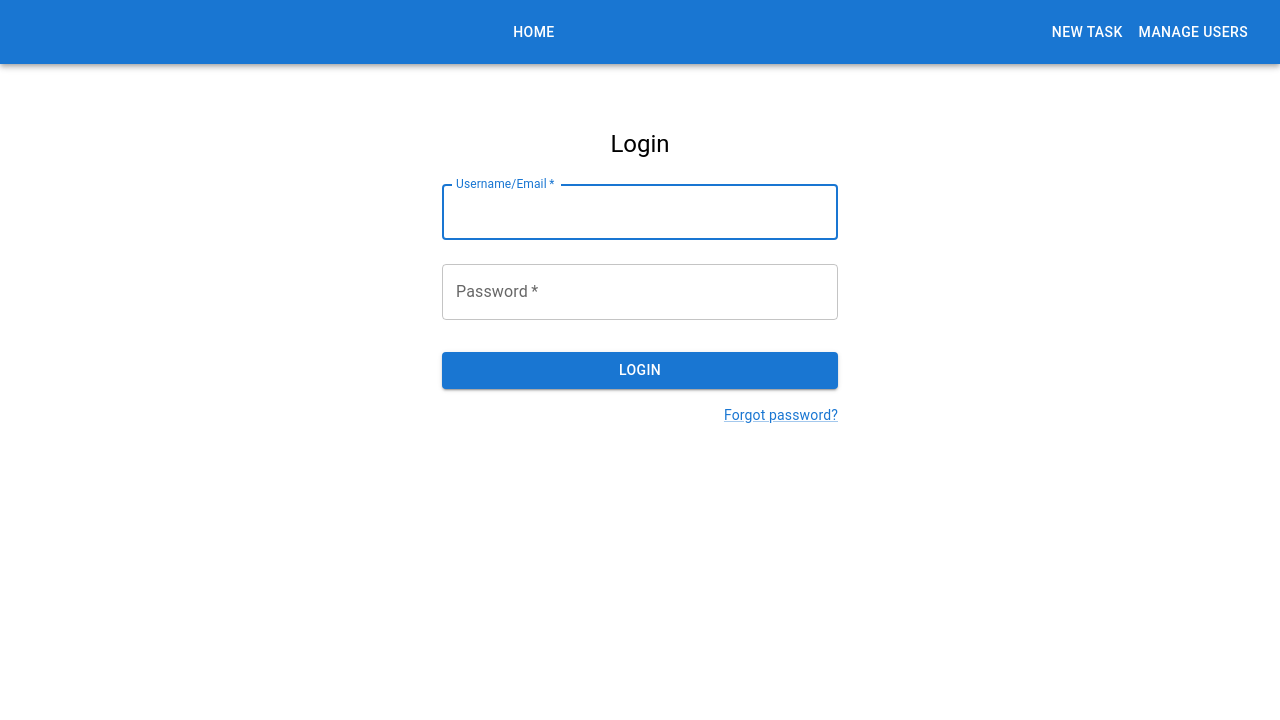
Login Page › should show validation errors for empty fields
// Try submitting empty form
Click the submit button: (640, 371) [442,352,838,389]
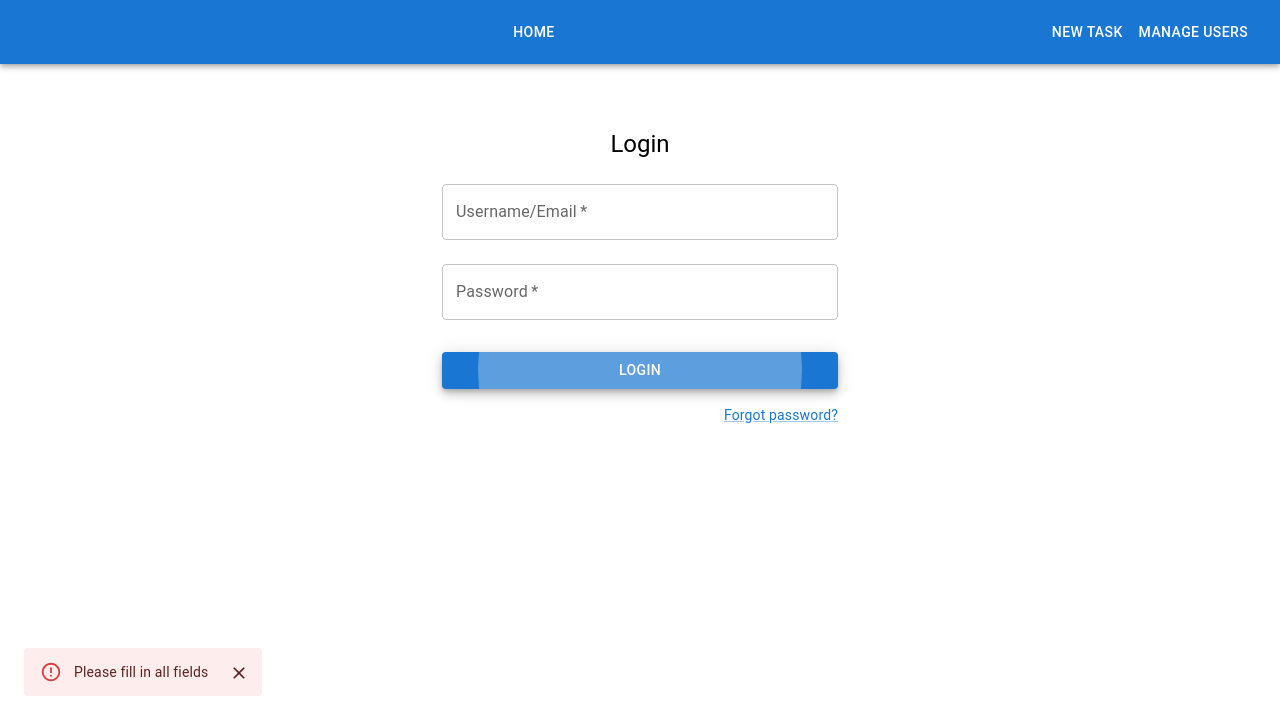
Check: the message "Please fill in all fields" is shown, box [24,648,262,696]
Check: the text "Please fill in all fields" is shown, box [74,664,208,680]
